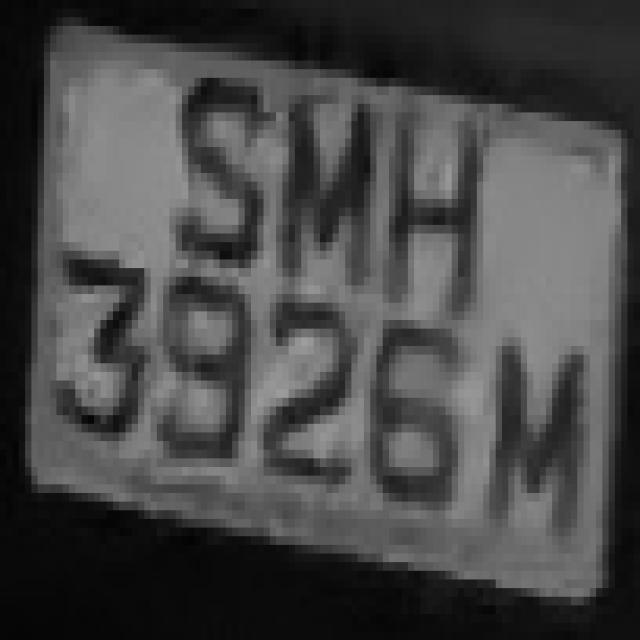2: (264, 259, 358, 519)
3: (57, 199, 163, 476)
6: (376, 286, 471, 510)
9: (163, 251, 264, 484)
H: (383, 69, 489, 337)
M: (477, 294, 602, 571), (276, 60, 389, 302)
S: (169, 35, 270, 302)
